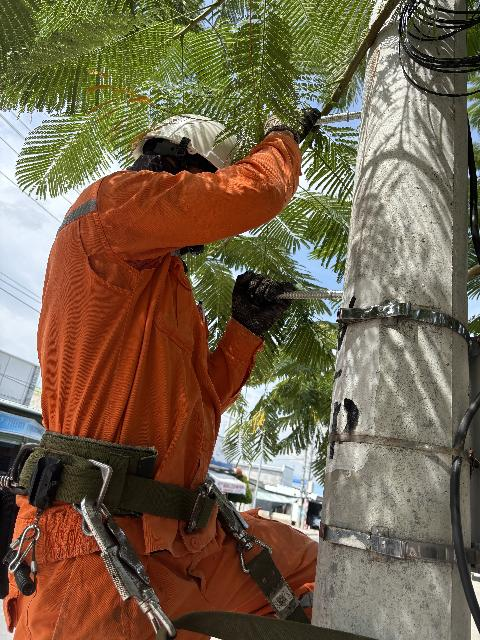gloves: (230, 262, 292, 341), (264, 90, 336, 145)
harness: (0, 398, 243, 546)
helmet: (118, 76, 248, 248)
